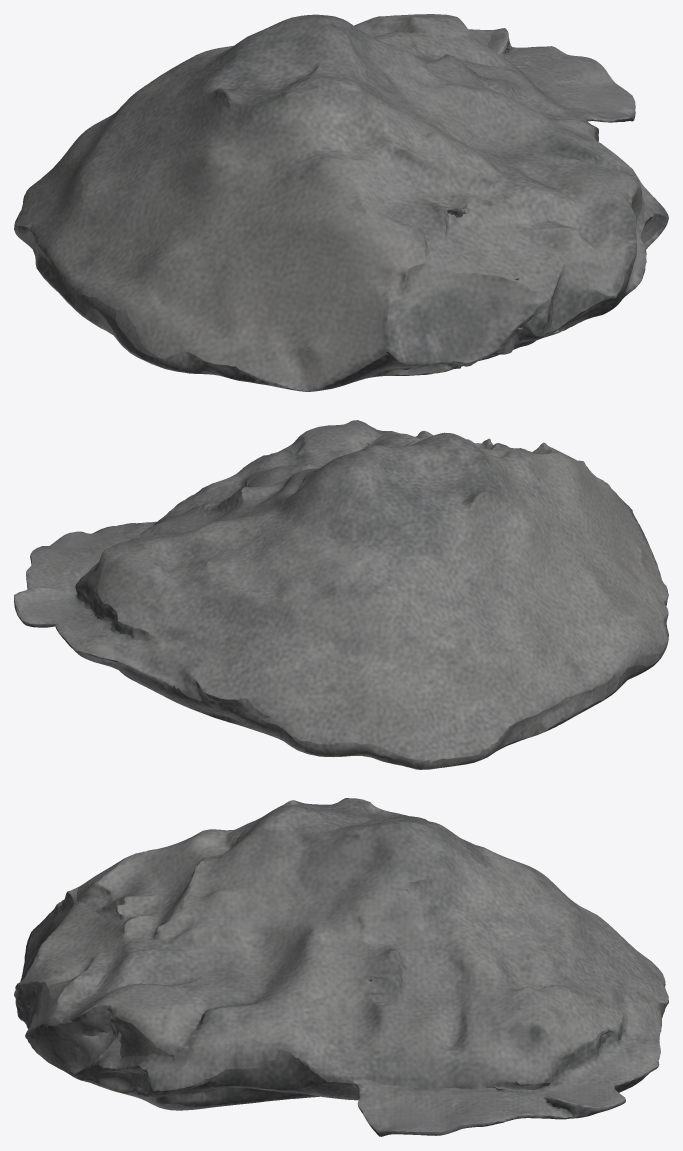
The picture shows the model from 3 angles, top to bottom: view 1: azimuth 30°, elevation 25°; view 2: azimuth 150°, elevation 25°; view 3: azimuth 270°, elevation 25°; orthographic projection. The views are drawn at different scales.
Parts seen in each view (by area): view 1: world; view 2: world; view 3: world.
Part boxes in pixels (x1,y1,x2,y2): world: (14,14,668,391); world: (14,420,668,769); world: (14,798,668,1136).
Size of the model in its own units: 1.2 by 0.4518 by 1.2.
Materials: 1 (1 with a texture image).
